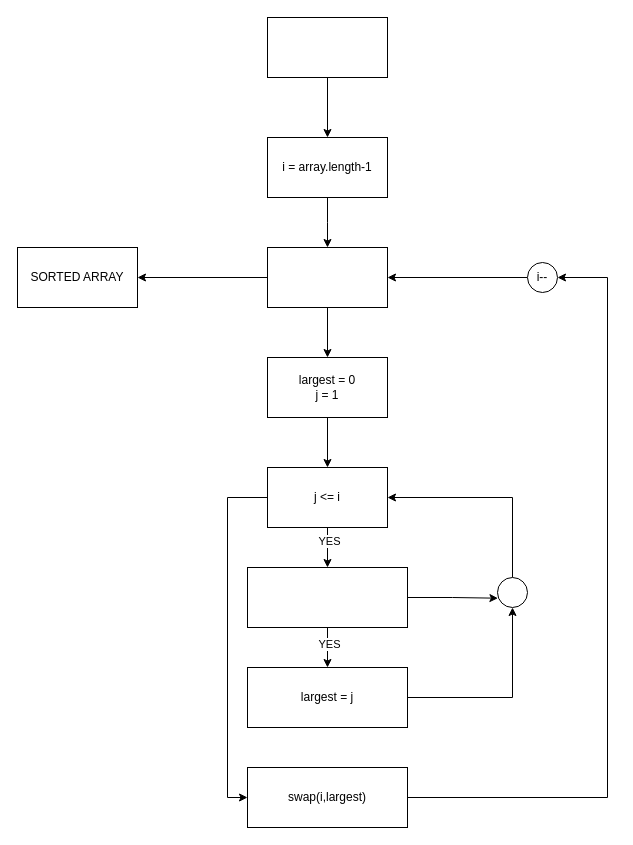
Image size: 633x845. Some labels were removed from this diagram. Each missing label, with the box of its shape:
array[]: (266, 16, 388, 78)
array[j] > array[largest]: (246, 566, 408, 628)
i > 0: (266, 246, 388, 308)
j++: (496, 576, 528, 608)
